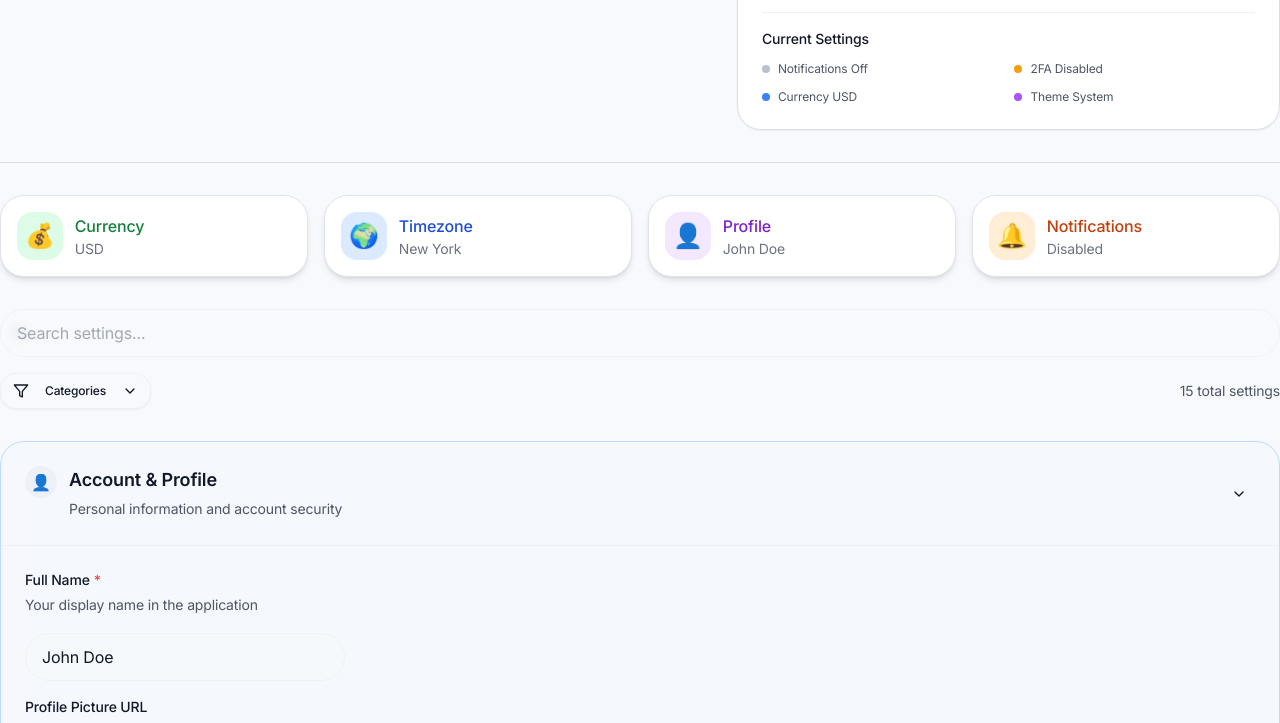
Test: SettingsPageRedesigned › Search and Filtering › filters settings based on search query
(page scrolled)
In the field with placeholder "Search settings...": (640, 333) x1=0 y1=309 x2=1279 y2=357, type "notification"
(page scrolled)
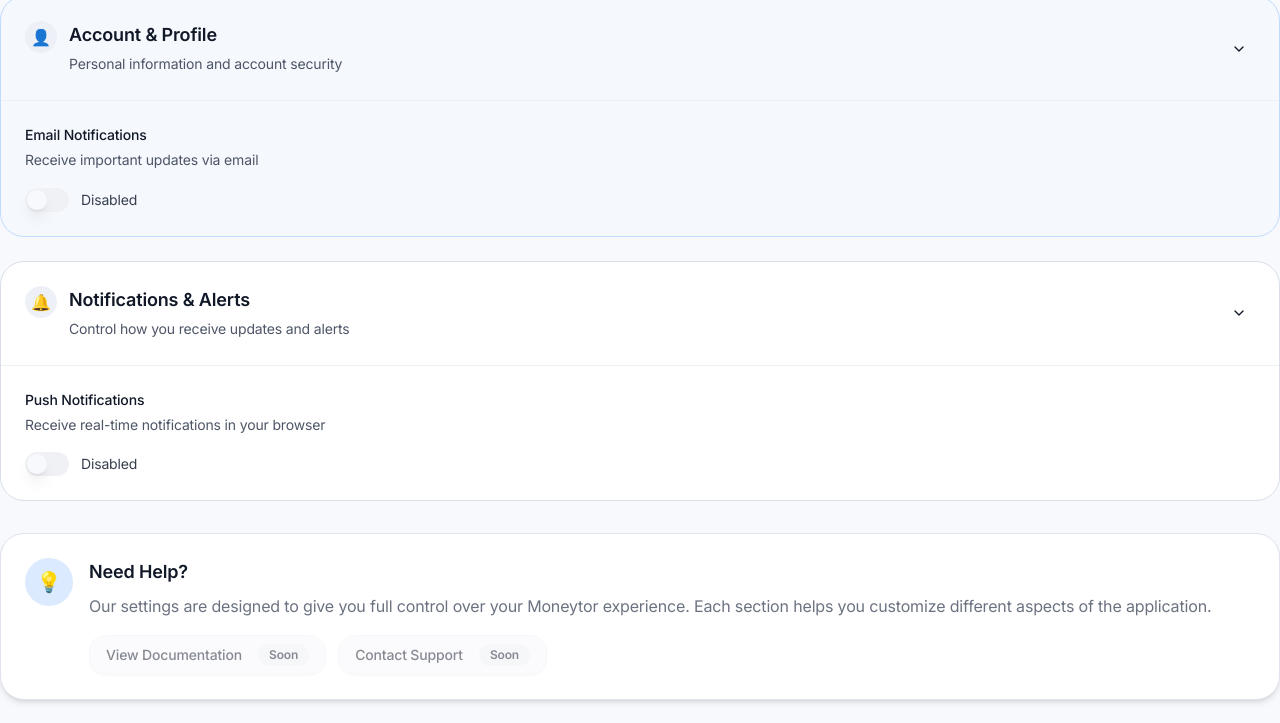
Expected: the text "Email Notifications" is shown, x1=25 y1=125 x2=147 y2=145
Now the text "Full Name" is gone
